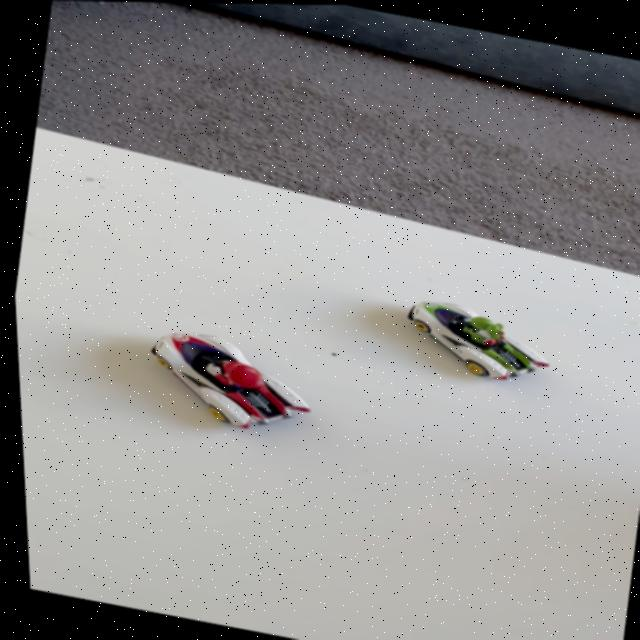mario: (111, 312, 337, 460)
yoshi: (375, 286, 567, 404)
